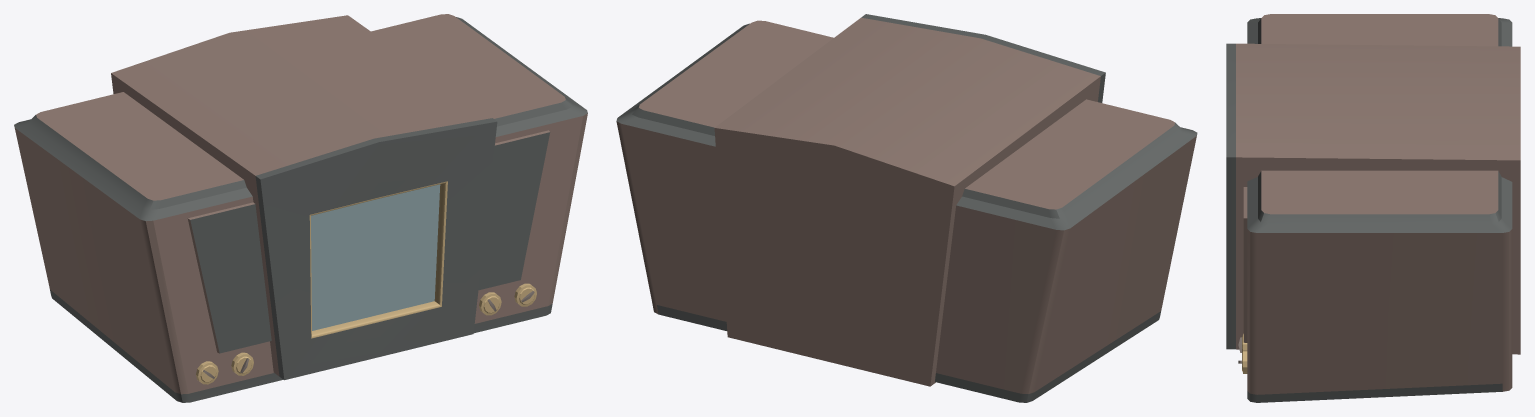
Rendered from Television.fbx.
3 renders of one model, left to right at view 1: azimuth 30°, elevation 25°; view 2: azimuth 150°, elevation 25°; view 3: azimuth 270°, elevation 25°, orthographic. The views are drawn at different scales.
Visible parts, largest first — view 1: pCube2, pCube1; view 2: pCube2, pCube1; view 3: pCube1, pCube2.
Part boxes in pixels (bbox=[...]): pCube2: bbox=[111, 15, 497, 380]; pCube1: bbox=[14, 14, 587, 402]; pCube2: bbox=[714, 14, 1105, 386]; pCube1: bbox=[616, 20, 1197, 402]; pCube1: bbox=[1243, 14, 1512, 402]; pCube2: bbox=[1226, 43, 1520, 354].
Bounding box in the file's own units: 10.22 × 4.91 × 5.92.
